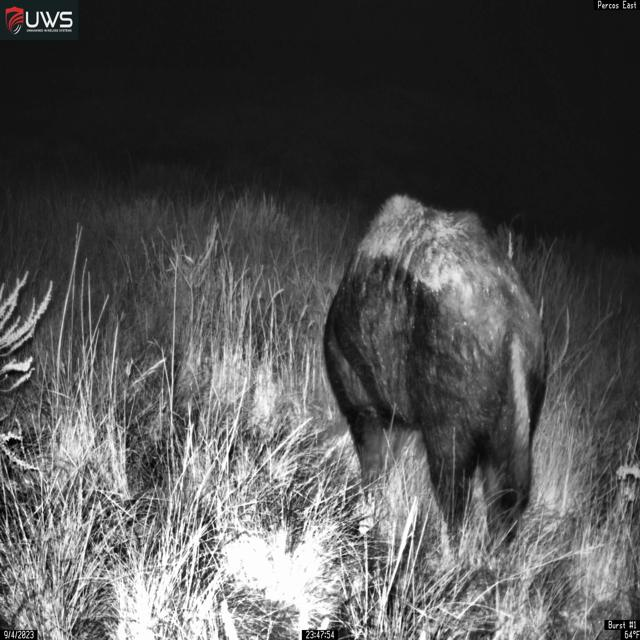pig: (322, 192, 549, 564)
